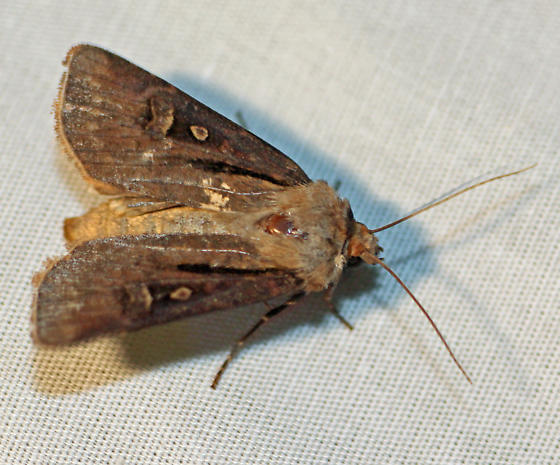Noctuidae: (29, 43, 538, 390)
